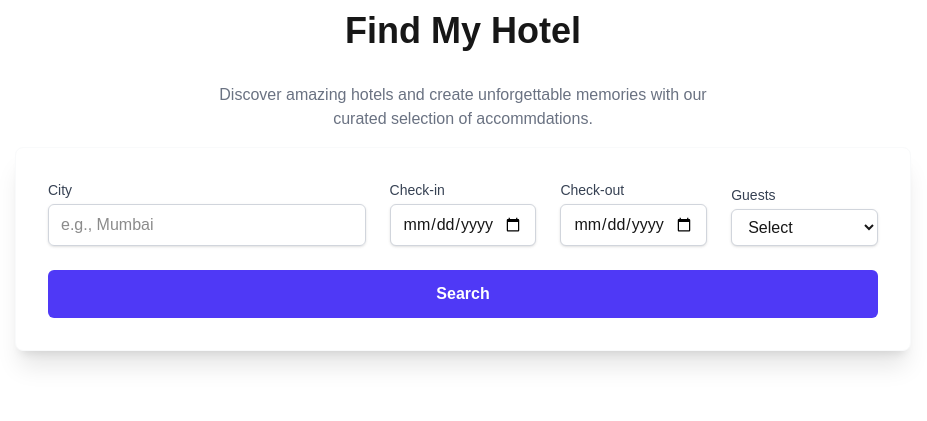
Test case: Home Page › validates check-out date is after check-in date
Type "2025-07-20" into the date field labelled "Check-in" at x=463, y=225, box [390,204,536,246]
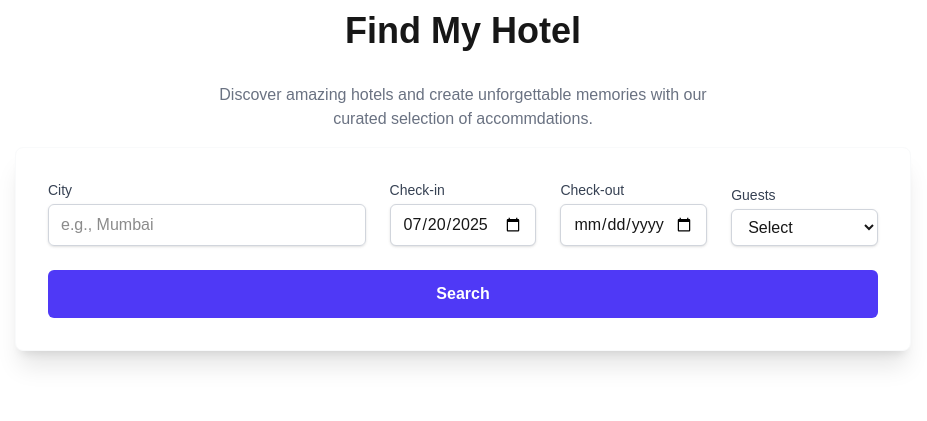
Type "2025-07-19" into the date field labelled "Check-out" at x=634, y=225, box [560,204,707,246]
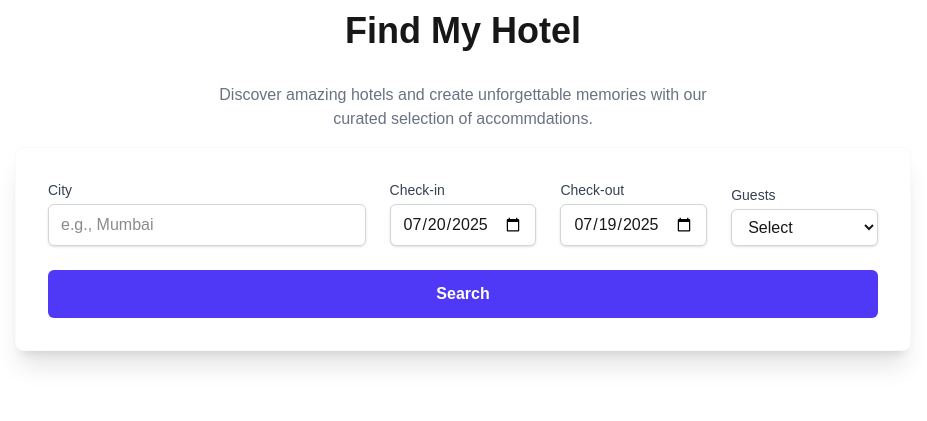
Click the button "Search" at x=463, y=294, box [48,270,878,318]
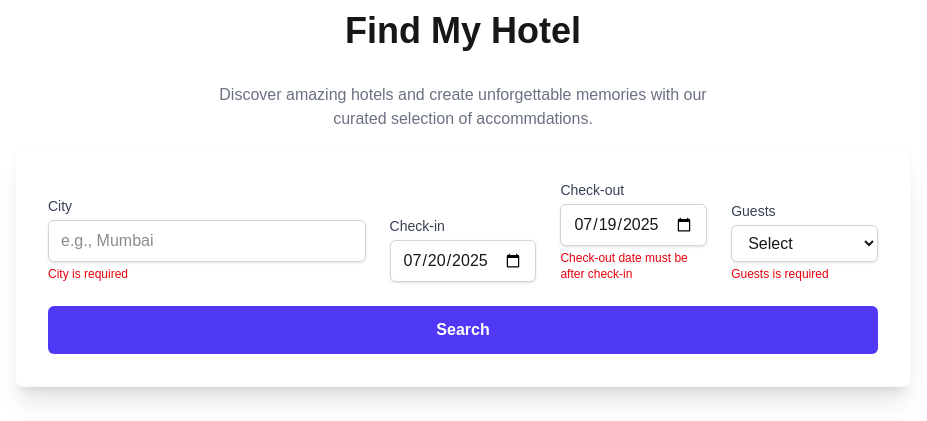
Expected: the text "Check-out date must be after check-in" is shown, [560,250,707,282]
